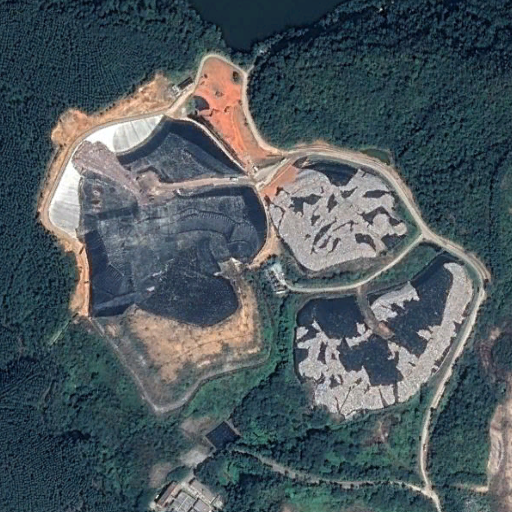lf: (49, 52, 476, 408)
